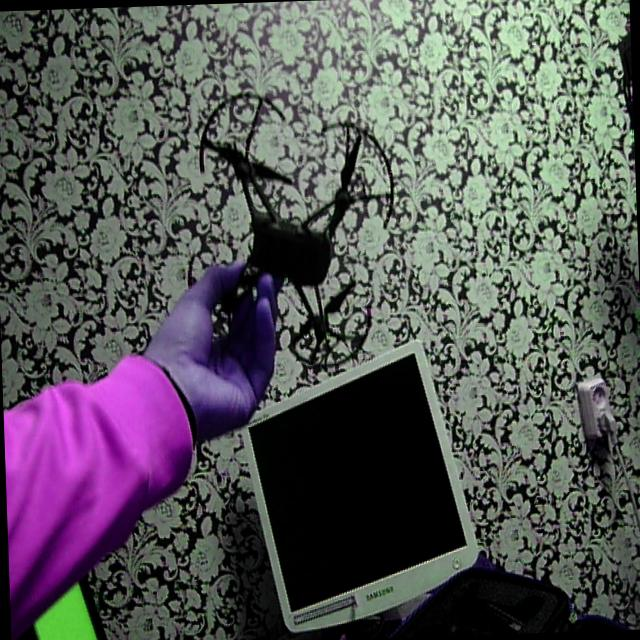drone: (177, 74, 405, 380)
